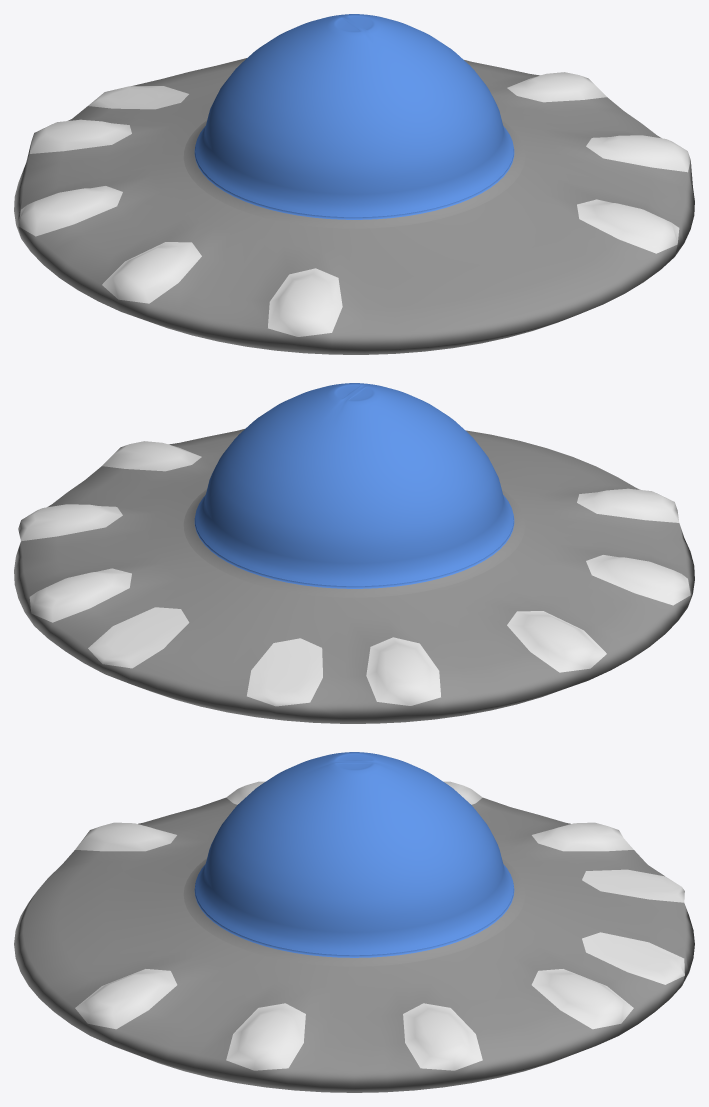
3 views of the same model, one above another, from view 1: azimuth 30°, elevation 25°; view 2: azimuth 150°, elevation 25°; view 3: azimuth 270°, elevation 25° (orthographic).
Parts seen in each view (by area): view 1: Cylinder; view 2: Cylinder; view 3: Cylinder.
Boxes of the visible parts, x1,y1,x2,y2 form: Cylinder: [14, 14, 694, 354]; Cylinder: [14, 383, 694, 723]; Cylinder: [14, 752, 694, 1092].
Bounding box in the file's own units: 454 × 189 × 454.
